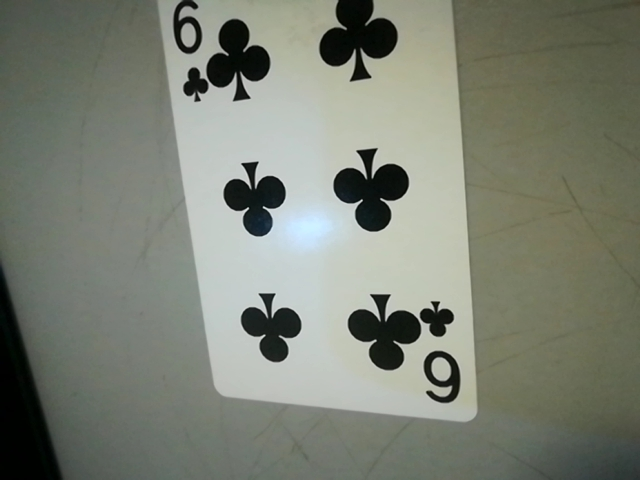mh 6: (412, 295, 474, 412), (163, 0, 210, 107)
